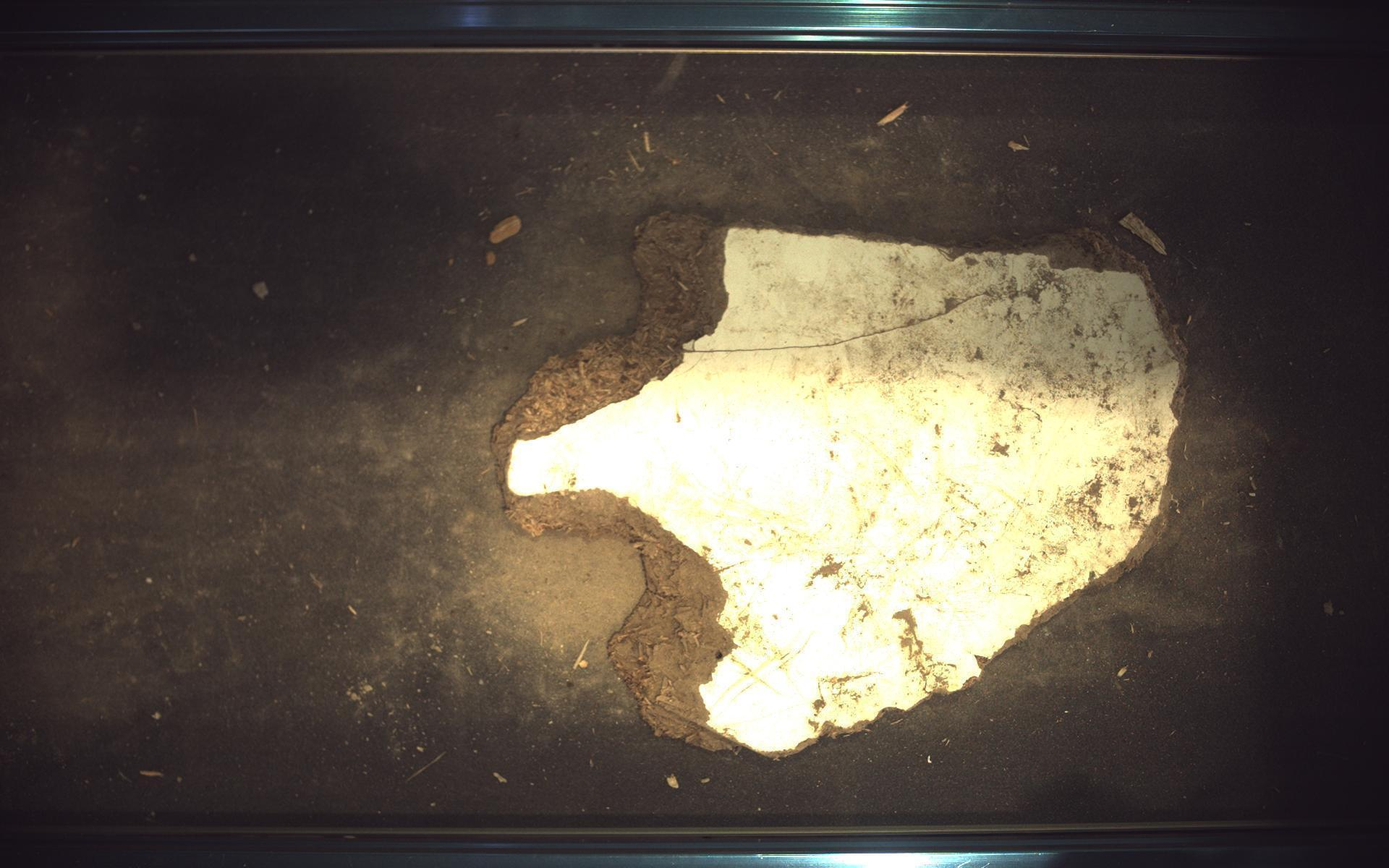wood: (495, 213, 1186, 757)
